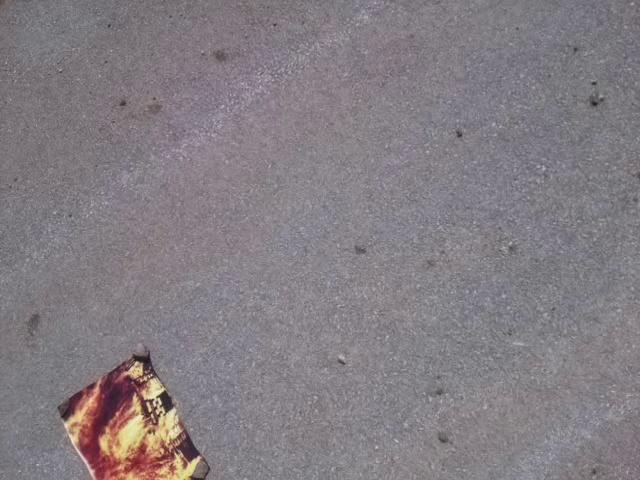fire-poster: (55, 342, 211, 479)
